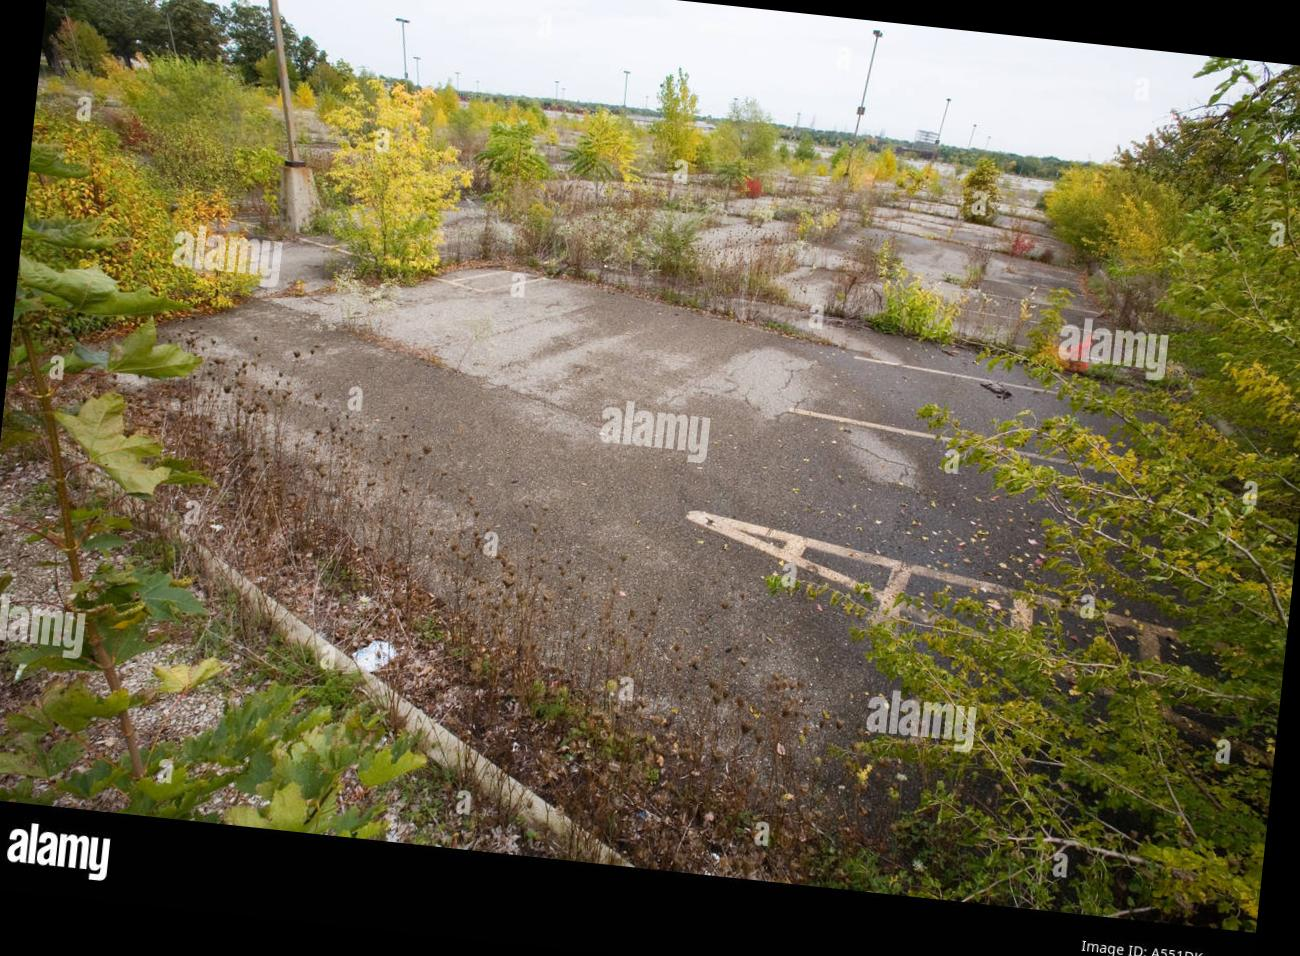overgrown grass: (146, 383, 841, 881), (482, 210, 958, 342), (691, 118, 944, 239), (326, 129, 467, 281), (960, 293, 1082, 374), (480, 123, 558, 217), (647, 72, 693, 171), (951, 156, 1004, 228), (797, 197, 840, 240)
